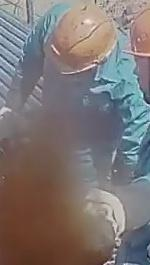helmet: (43, 1, 118, 75), (122, 5, 150, 69)
vest: (18, 1, 133, 192)
